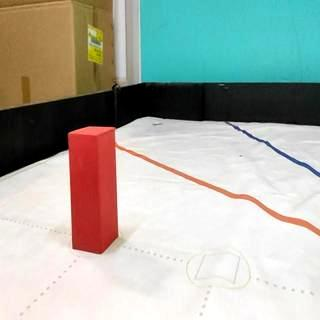redbox: (66, 126, 119, 256)
